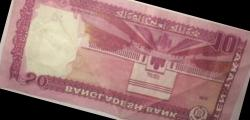10 taka: (12, 2, 243, 119)
